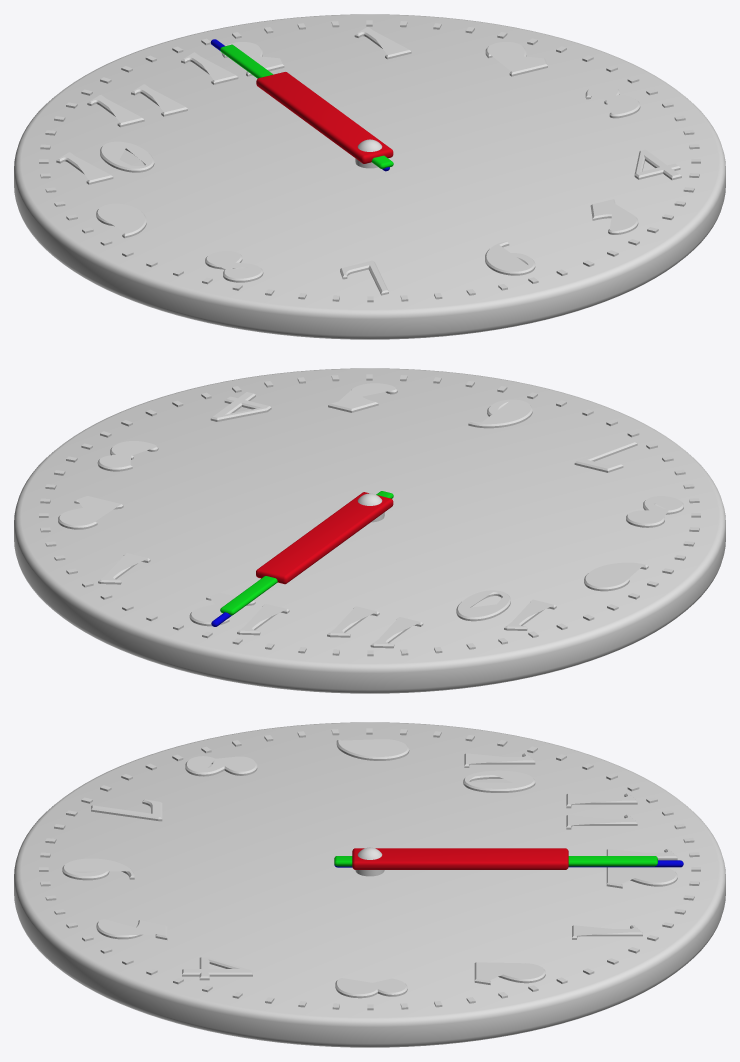
The model's file is ClassicClock.fbx.
3 renders of one model, top to bottom at view 1: azimuth 30°, elevation 25°; view 2: azimuth 150°, elevation 25°; view 3: azimuth 270°, elevation 25°, orthographic.
Parts seen in each view (by area): view 1: Clock; view 2: Clock; view 3: Clock.
Boxes of the visible parts, x1,y1,x2,y2 form: Clock: (14,14,725,339); Clock: (14,368,725,693); Clock: (14,722,725,1047).
Bounding box in the file's own units: 9311 × 733 × 9311.
